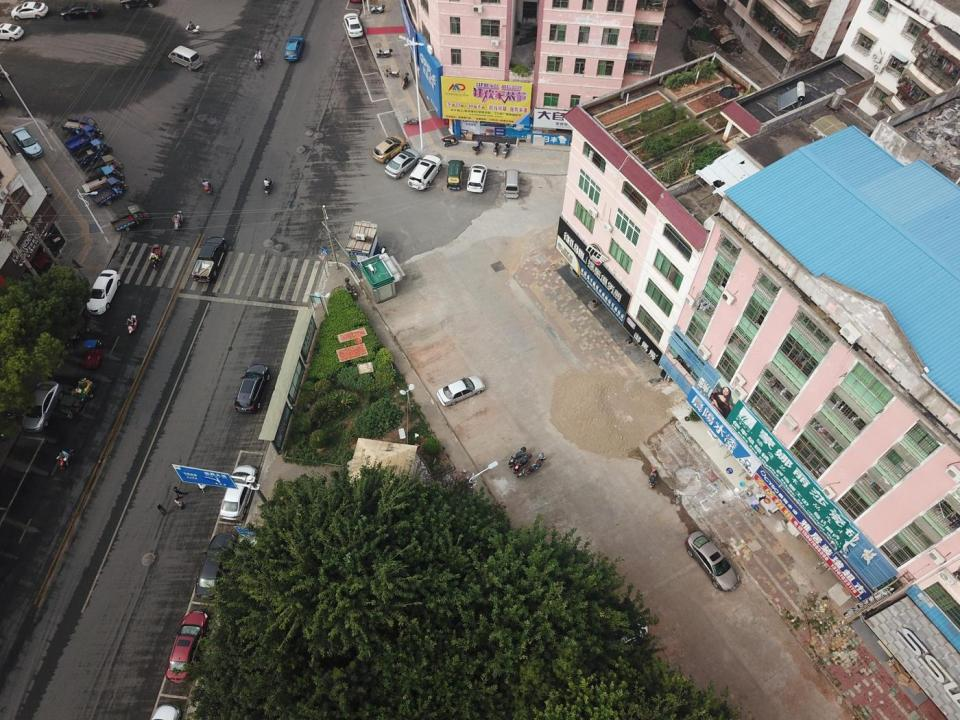car: (684, 531, 740, 592), (165, 610, 210, 683), (196, 533, 236, 600), (218, 465, 258, 520), (23, 381, 63, 432), (597, 614, 648, 653), (234, 364, 269, 414), (436, 374, 486, 406), (86, 270, 121, 314), (407, 154, 442, 191), (372, 136, 408, 165), (384, 149, 420, 178), (11, 126, 43, 158), (60, 1, 100, 20), (11, 1, 49, 20), (466, 164, 488, 193), (343, 12, 363, 38), (284, 36, 303, 62), (0, 23, 24, 41), (120, 0, 161, 8)
truck: (191, 236, 227, 283)
van: (168, 45, 202, 70), (447, 160, 464, 190), (503, 169, 519, 198)
